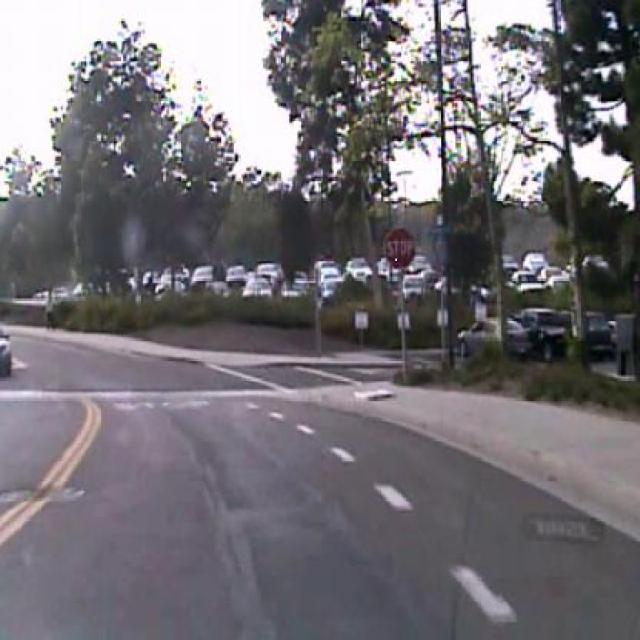stop: (383, 224, 416, 270)
